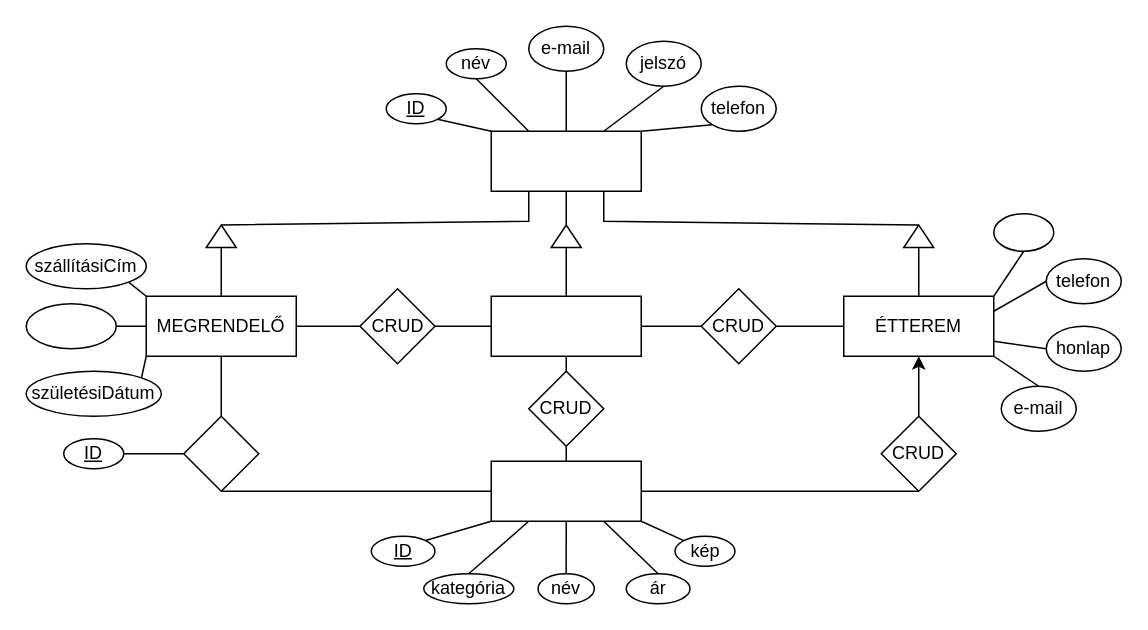
This 1148x630 diagram has some shape labels left out. Each missing label, with the centre of its shape:
"ADMIN" goes at (x=565, y=325).
"cím" goes at (x=1023, y=231).
"egyenleg" goes at (x=70, y=325).
"FELHASZNÁLÓ" goes at (x=565, y=160).
"TERMÉK" goes at (x=565, y=490).
"vásárol" goes at (x=220, y=453).
